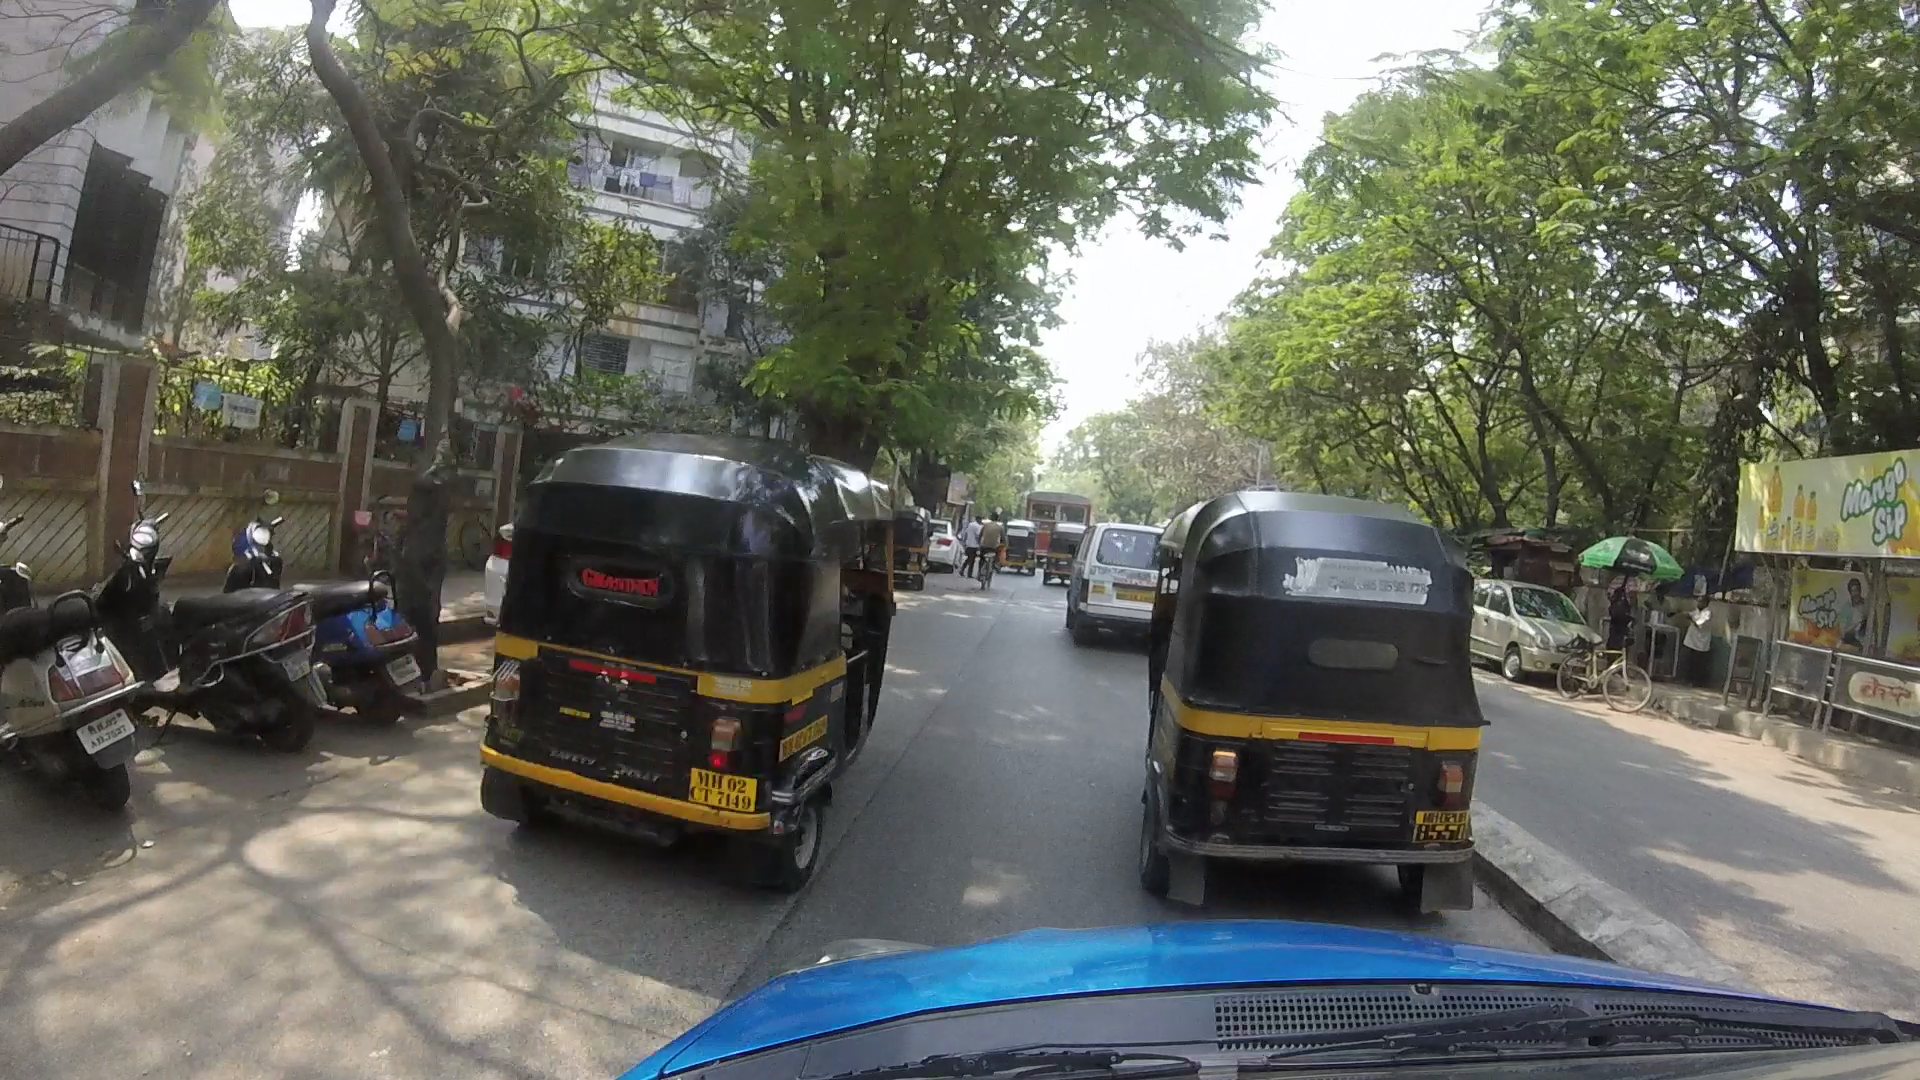bike/scooter: (96, 506, 338, 742), (11, 556, 152, 824), (240, 522, 431, 707)
car: (1469, 578, 1615, 692), (1072, 522, 1182, 642)
rickshaw: (496, 425, 913, 886), (1143, 477, 1469, 910)
